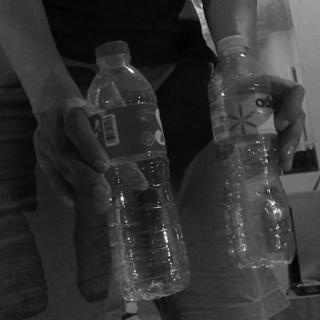plastic_bottles: (89, 41, 193, 302), (210, 34, 296, 266)
